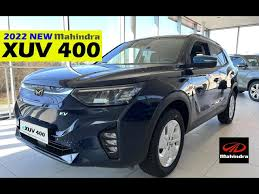XUV 400: (13, 32, 238, 177)
